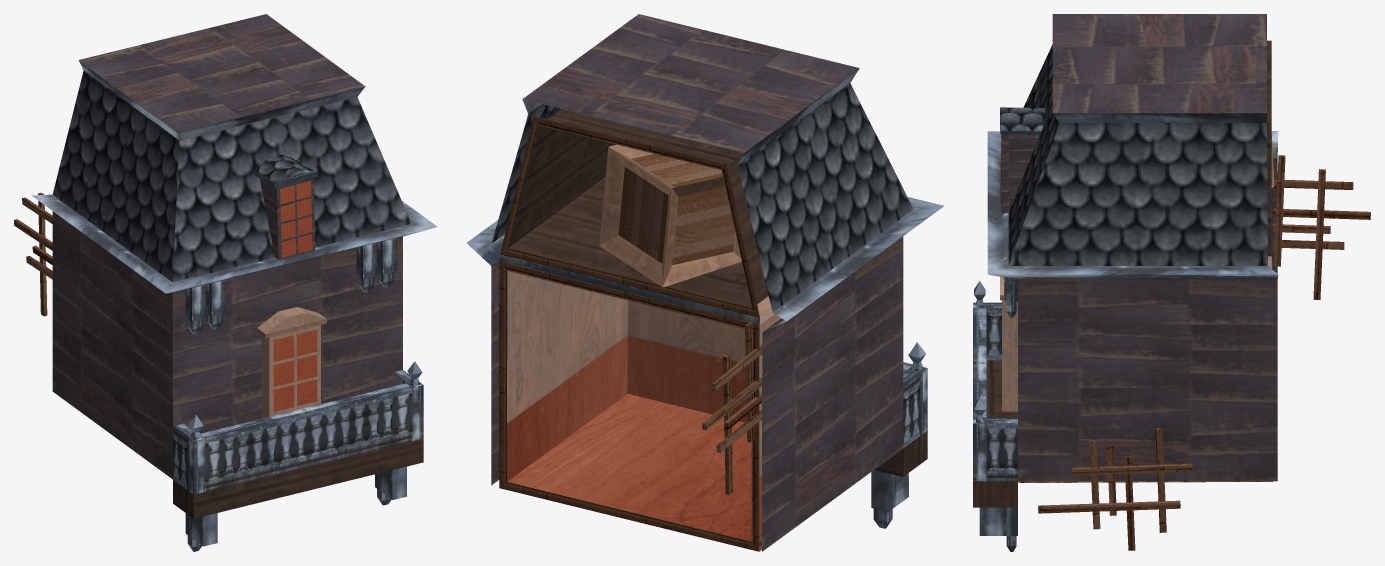
Rendered from Spooky_Tower_Floating_Cabin_01_Art.glb.
3 renders of one model, left to right at view 1: azimuth 30°, elevation 25°; view 2: azimuth 150°, elevation 25°; view 3: azimuth 270°, elevation 25°, orthographic. The views are drawn at different scales.
Visible parts, largest first — view 1: Spooky_Tower_Floating_Cabin_01_Art; view 2: Spooky_Tower_Floating_Cabin_01_Art; view 3: Spooky_Tower_Floating_Cabin_01_Art.
Part boxes in pixels (bbox=[...]): Spooky_Tower_Floating_Cabin_01_Art: bbox=[14, 14, 437, 551]; Spooky_Tower_Floating_Cabin_01_Art: bbox=[466, 14, 943, 551]; Spooky_Tower_Floating_Cabin_01_Art: bbox=[973, 14, 1370, 551].
Bounding box in the file's own units: 3.55 × 5.04 × 4.15.
Materials: 2 (2 with a texture image).
